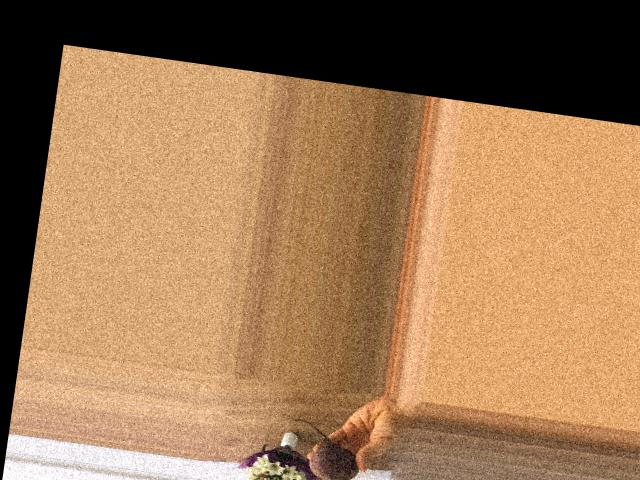beet: (282, 418, 364, 480)
